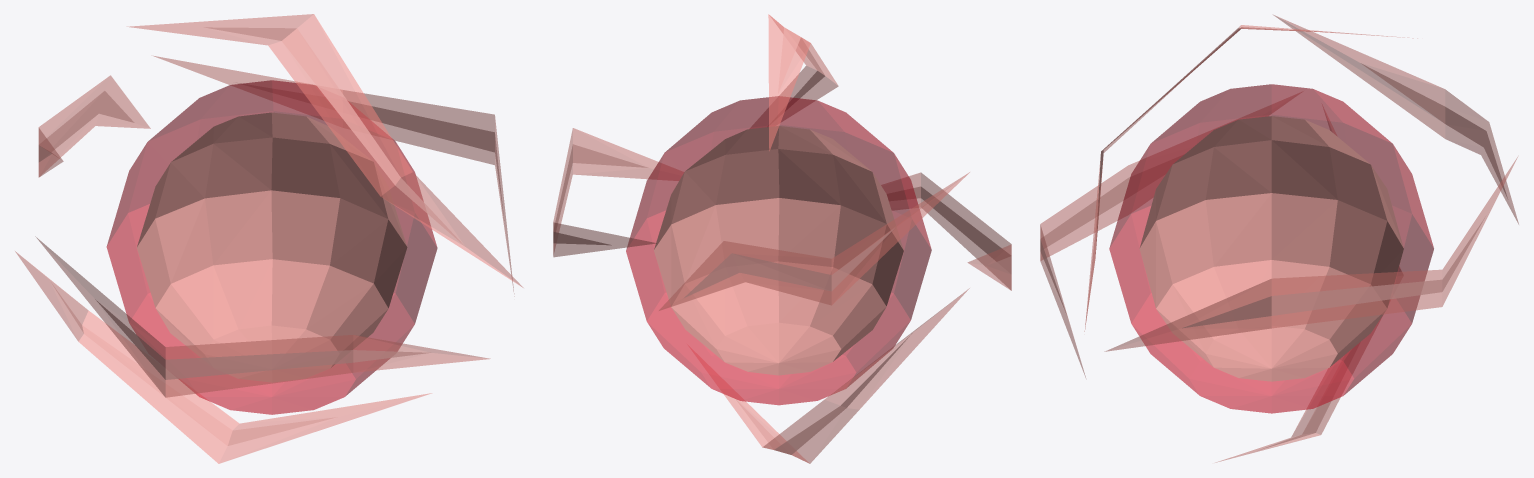
Rendered from projectile_magic.gltf.
3 views of the same model, side by side, from view 1: azimuth 30°, elevation 25°; view 2: azimuth 150°, elevation 25°; view 3: azimuth 270°, elevation 25° (orthographic). The views are drawn at different scales.
Bounding box in the file's own units: 188 × 178 × 174.
Materials: 2 (2 with a texture image).
